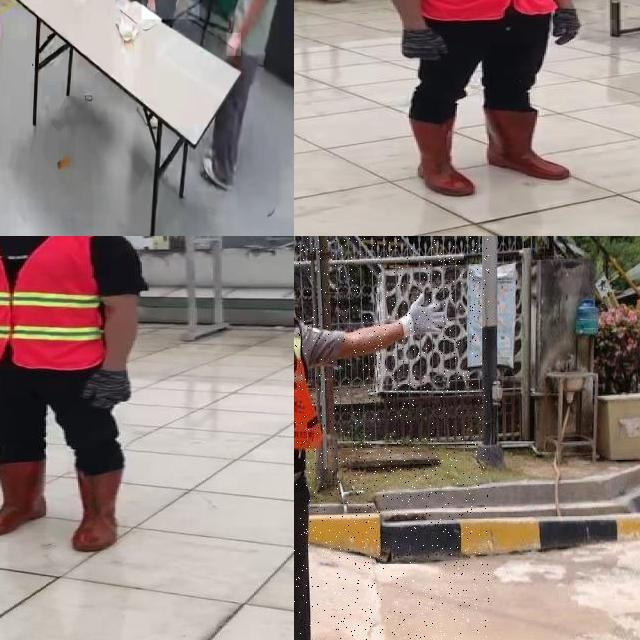boots: (486, 104, 574, 181), (406, 114, 480, 200), (68, 469, 124, 552), (0, 460, 49, 539)
hand_noglove: (226, 32, 242, 56), (146, 0, 156, 11)
person: (294, 236, 489, 640), (0, 236, 158, 557), (359, 0, 588, 198), (210, 0, 294, 197)
shoes: (201, 154, 235, 192)
vest: (0, 236, 106, 369), (294, 323, 322, 486)
